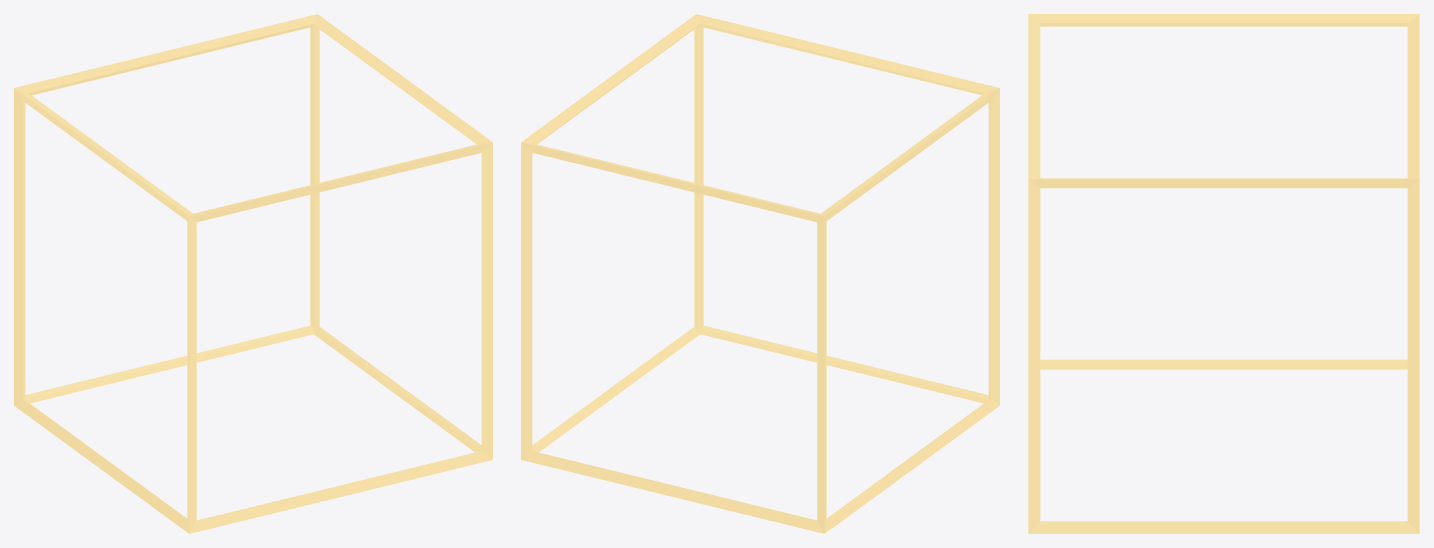
Rendered from thelightcube.glb.
3 renders of one model, left to right at view 1: azimuth 30°, elevation 25°; view 2: azimuth 150°, elevation 25°; view 3: azimuth 270°, elevation 25°, orthographic. The views are drawn at different scales.
Parts seen in each view (by area): view 1: CubicalLamp; view 2: CubicalLamp; view 3: CubicalLamp.
Boxes of the visible parts, left/top/right/bottom form: CubicalLamp: left=14, top=14, right=492, bottom=533; CubicalLamp: left=521, top=14, right=999, bottom=533; CubicalLamp: left=1028, top=14, right=1419, bottom=533.
Bounding box in the file's own units: 2.05 × 2.05 × 2.05.
